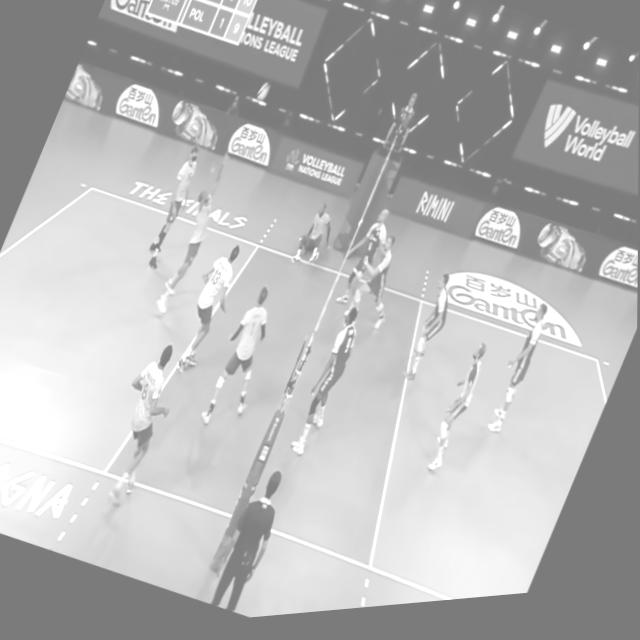player: (86, 331, 198, 512), (193, 281, 298, 444), (150, 153, 238, 325), (285, 308, 370, 467), (165, 239, 253, 388), (421, 342, 495, 486), (484, 307, 557, 447), (140, 145, 208, 275), (395, 277, 462, 396), (342, 234, 415, 337), (333, 210, 396, 315), (289, 201, 346, 284)
